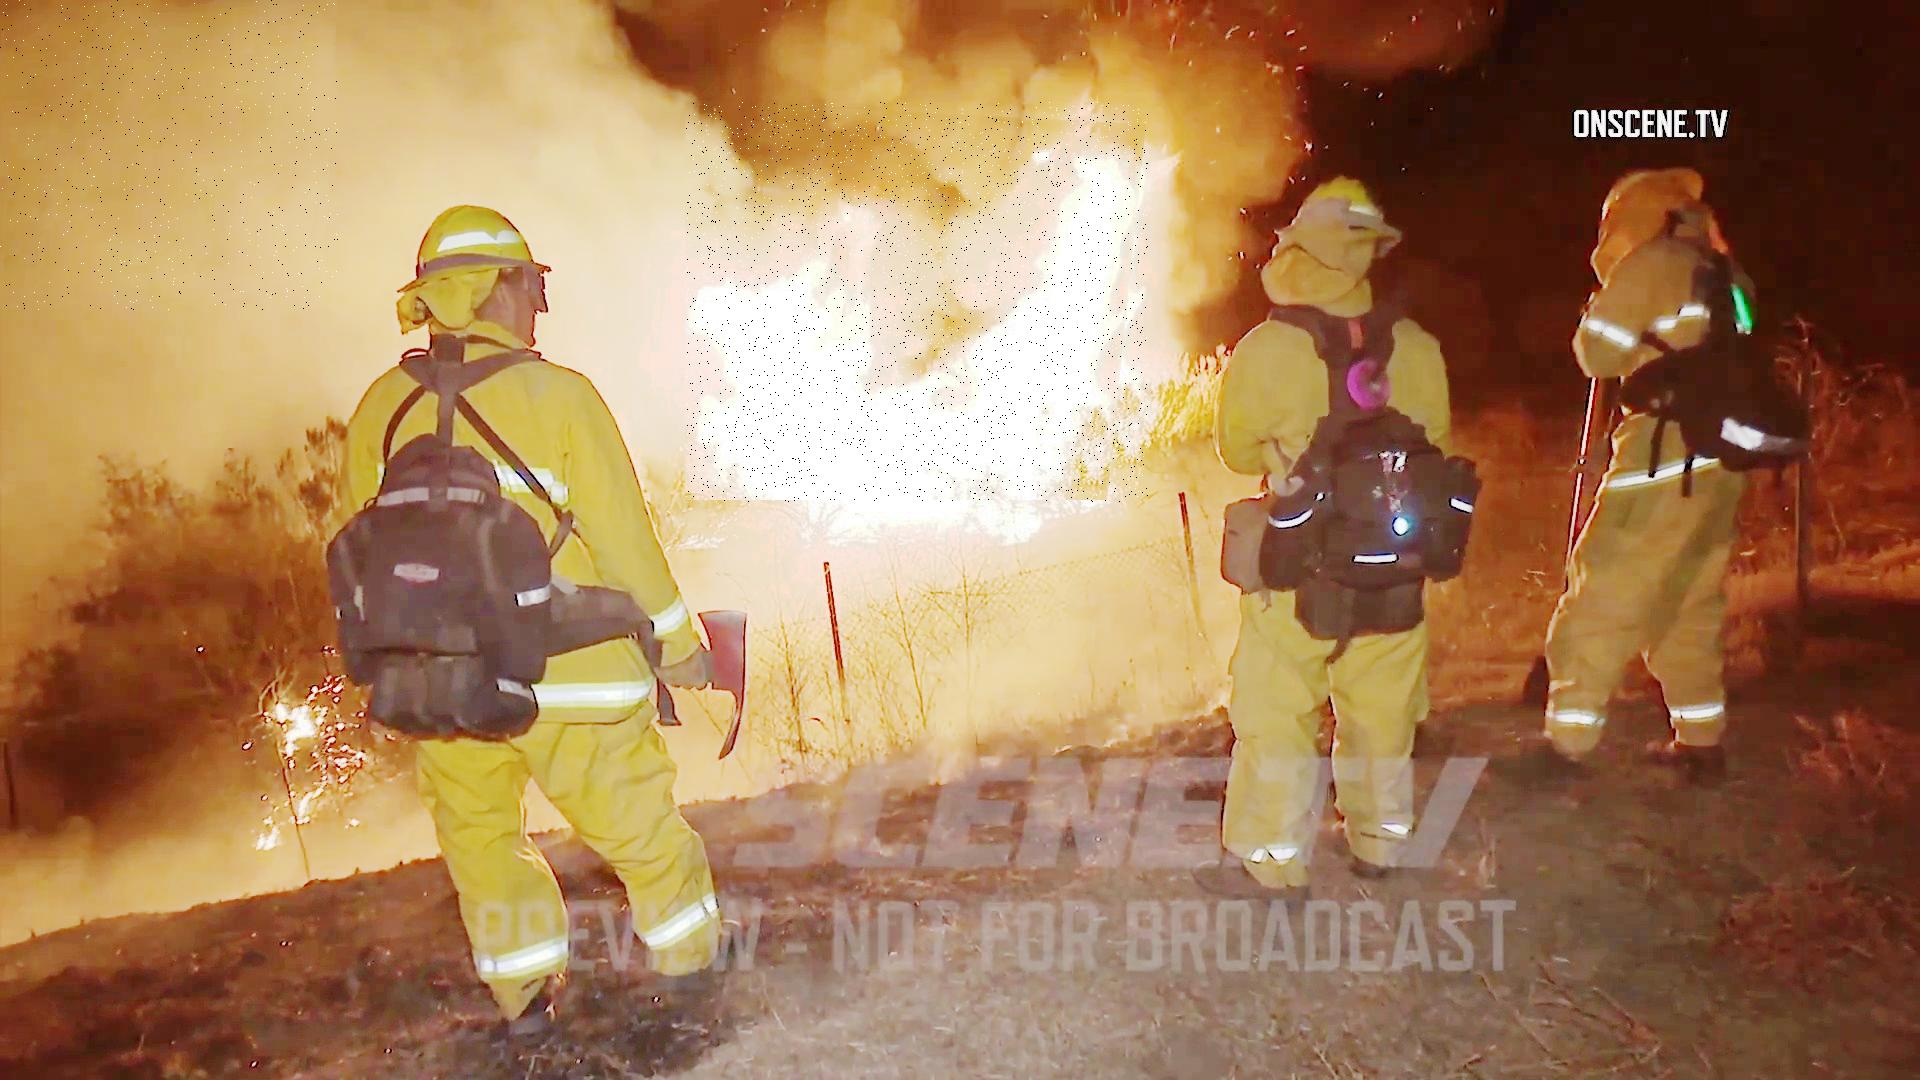fire: (686, 103, 1149, 502)
smoke: (0, 0, 338, 310)
